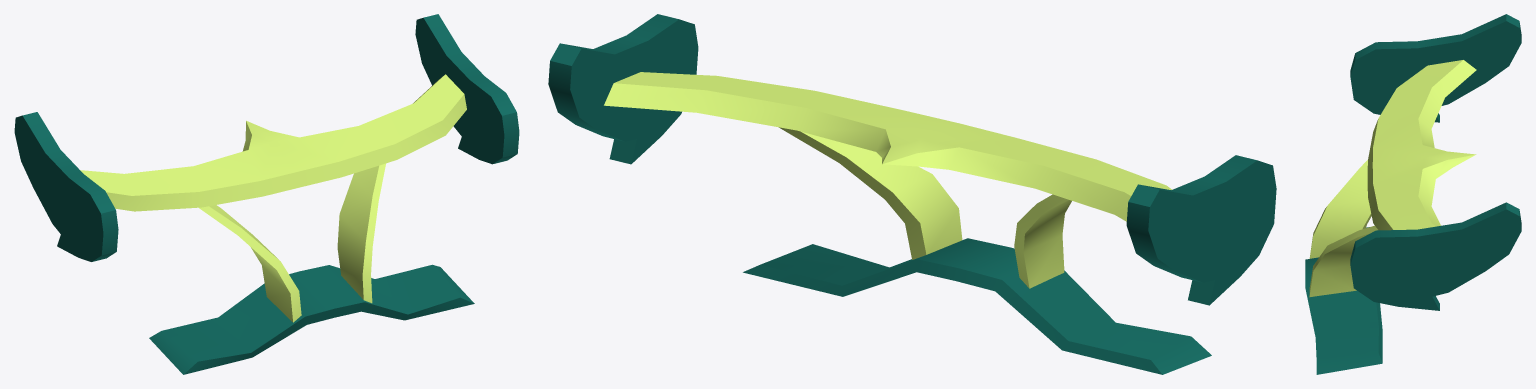
Rendered from LuxSpoiler02C02.gltf.
The picture shows the model from 3 angles, left to right: view 1: azimuth 30°, elevation 25°; view 2: azimuth 150°, elevation 25°; view 3: azimuth 270°, elevation 25°; orthographic projection. The views are drawn at different scales.
Visible parts, largest first — view 1: LuxSpoiler02C02; view 2: LuxSpoiler02C02; view 3: LuxSpoiler02C02.
Part boxes in pixels (bbox=[...]): LuxSpoiler02C02: bbox=[14, 14, 519, 374]; LuxSpoiler02C02: bbox=[548, 14, 1276, 374]; LuxSpoiler02C02: bbox=[1305, 14, 1521, 374].
Size of the model in its own units: 0.1732 by 0.0806 by 0.0811.
